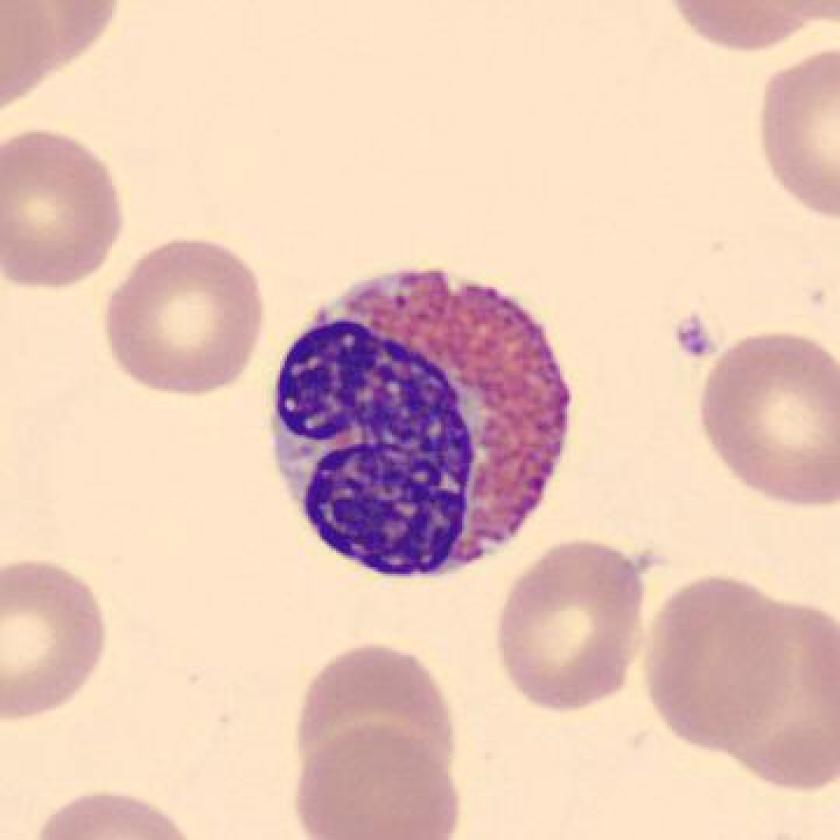eosinophil: (263, 251, 585, 593)
